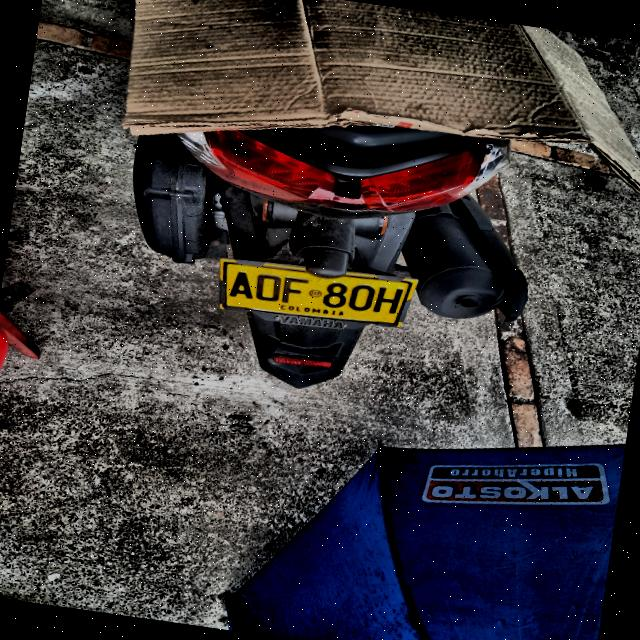0: (346, 282, 377, 313)
8: (321, 281, 349, 311)
A: (228, 269, 254, 301)
F: (281, 275, 311, 307)
H: (371, 285, 404, 315)
O: (254, 272, 283, 304)
